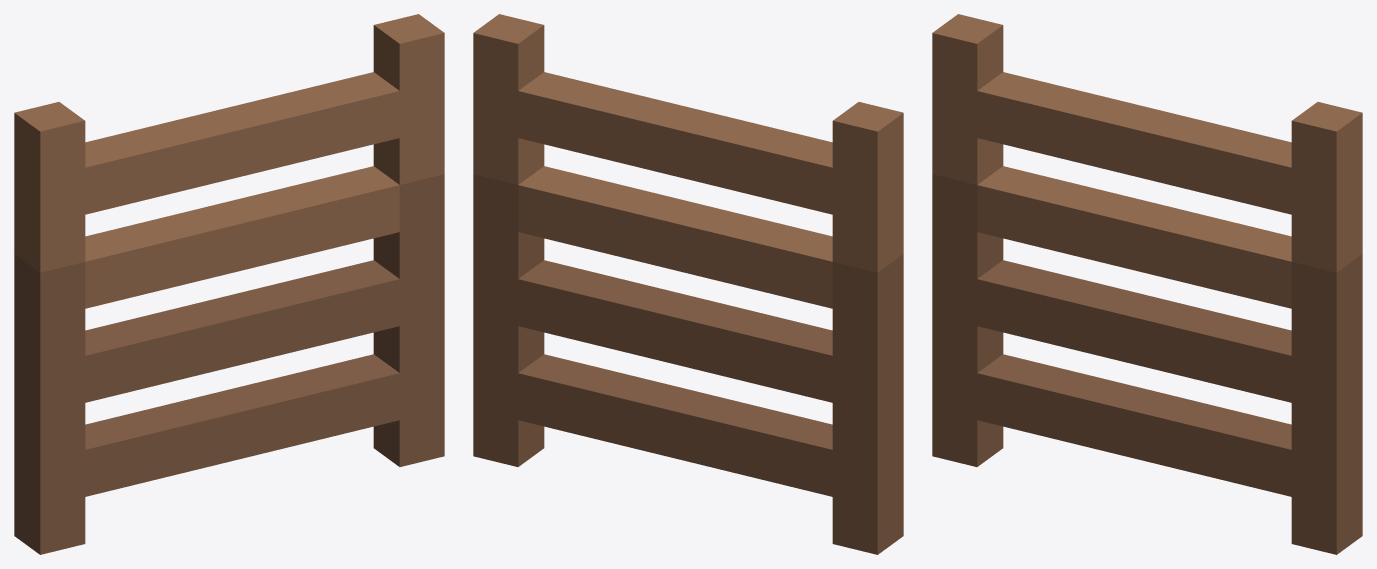
The model's file is ConstructionMaterials-99.obj.
3 views of the same model, side by side, from view 1: azimuth 30°, elevation 25°; view 2: azimuth 150°, elevation 25°; view 3: azimuth 330°, elevation 25° (orthographic).
Size of the model in its own units: 0.9 by 0.9 by 0.1.
Materials: 1 (1 with a texture image).
